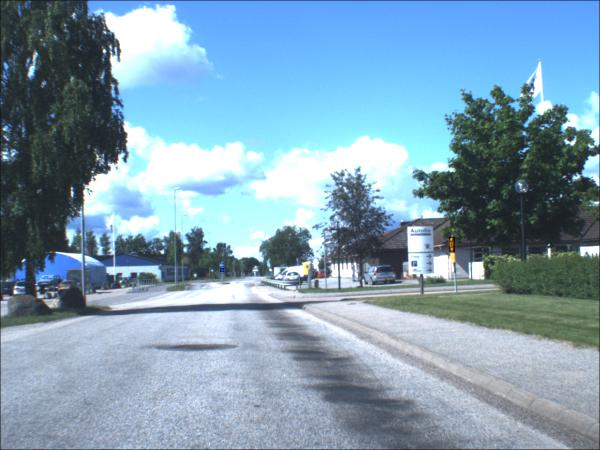30_SIGN: (450, 238, 457, 254)
PASS_RIGHT_SIDE: (221, 269, 226, 274)
PEDESTRIAN_CROSSING: (221, 263, 226, 269)
